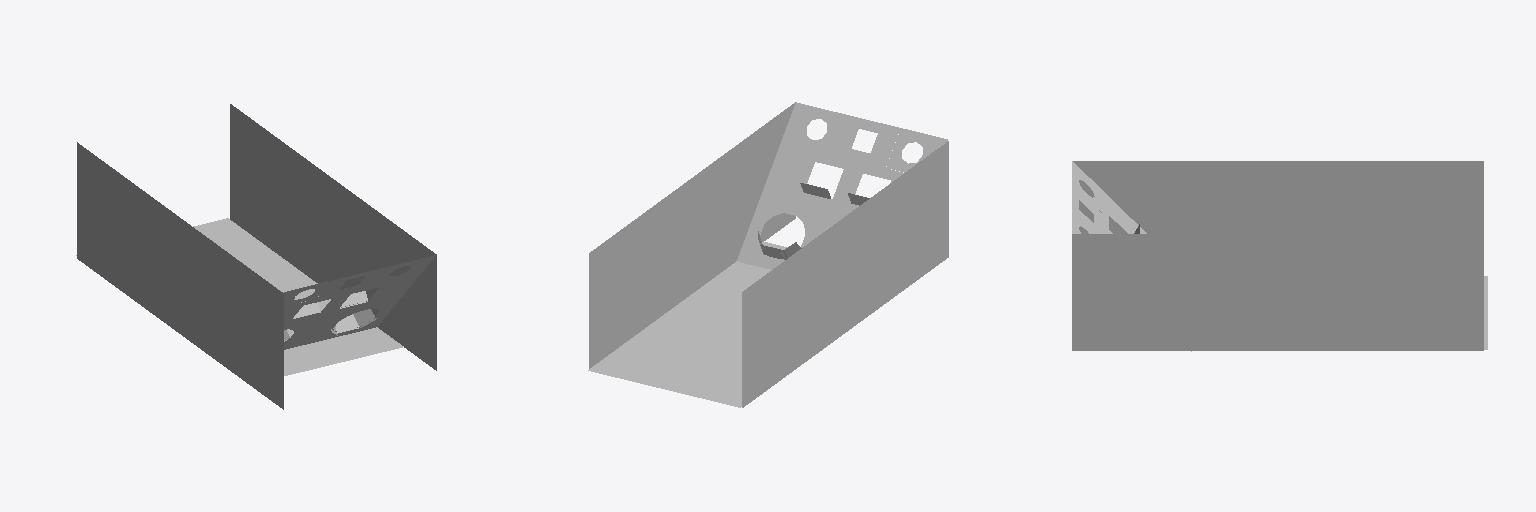
Rendered from SkeeBall_map.obj.
3 views of the same model, side by side, from view 1: azimuth 30°, elevation 25°; view 2: azimuth 150°, elevation 25°; view 3: azimuth 270°, elevation 25° (orthographic).
Visible parts, largest first — view 1: Plane.002, Plane.003, Plane.001, Plane; view 2: Plane.002, Plane.003, Plane.001, Plane; view 3: Plane.003, Plane.002, Plane.
Boxes of the visible parts, x1,y1,x2,y2 form: Plane.002: [77, 142, 283, 409]; Plane.003: [230, 104, 436, 370]; Plane.001: [76, 218, 403, 375]; Plane: [284, 255, 435, 349]; Plane.002: [742, 141, 948, 407]; Plane.003: [589, 102, 795, 368]; Plane.001: [588, 242, 787, 407]; Plane: [737, 102, 947, 269]; Plane.003: [1072, 234, 1483, 350]; Plane.002: [1073, 161, 1483, 233]; Plane: [1072, 161, 1191, 351].
Bounding box in the file's own units: 2 × 1.48 × 4.73.